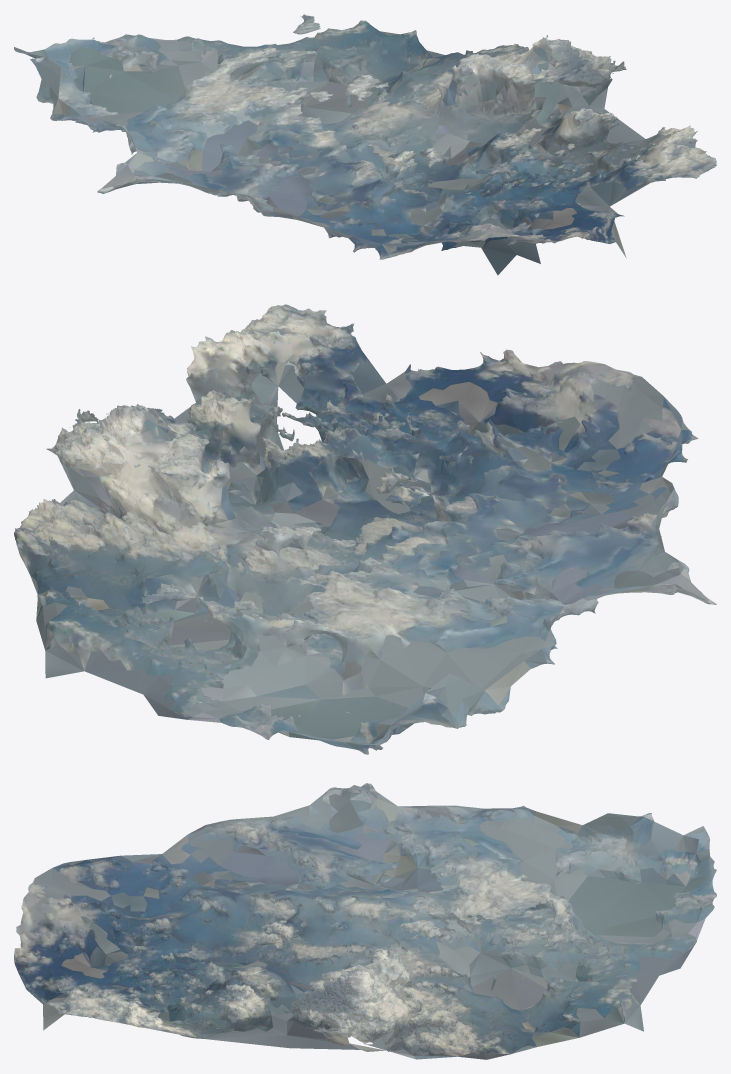
Rendered from 3d_mesh_of_a_cloud.glb.
The picture shows the model from 3 angles, top to bottom: view 1: azimuth 30°, elevation 25°; view 2: azimuth 150°, elevation 25°; view 3: azimuth 270°, elevation 25°; orthographic projection. The views are drawn at different scales.
Visible parts, largest first — view 1: Object_8; view 2: Object_8; view 3: Object_8.
Boxes of the visible parts, <box> form: Object_8: <box>14,14,716,275</box>; Object_8: <box>14,304,716,754</box>; Object_8: <box>14,783,716,1059</box>.
Bounding box in the file's own units: 67.19 × 13.56 × 76.5.
1 material, 1 textured.
